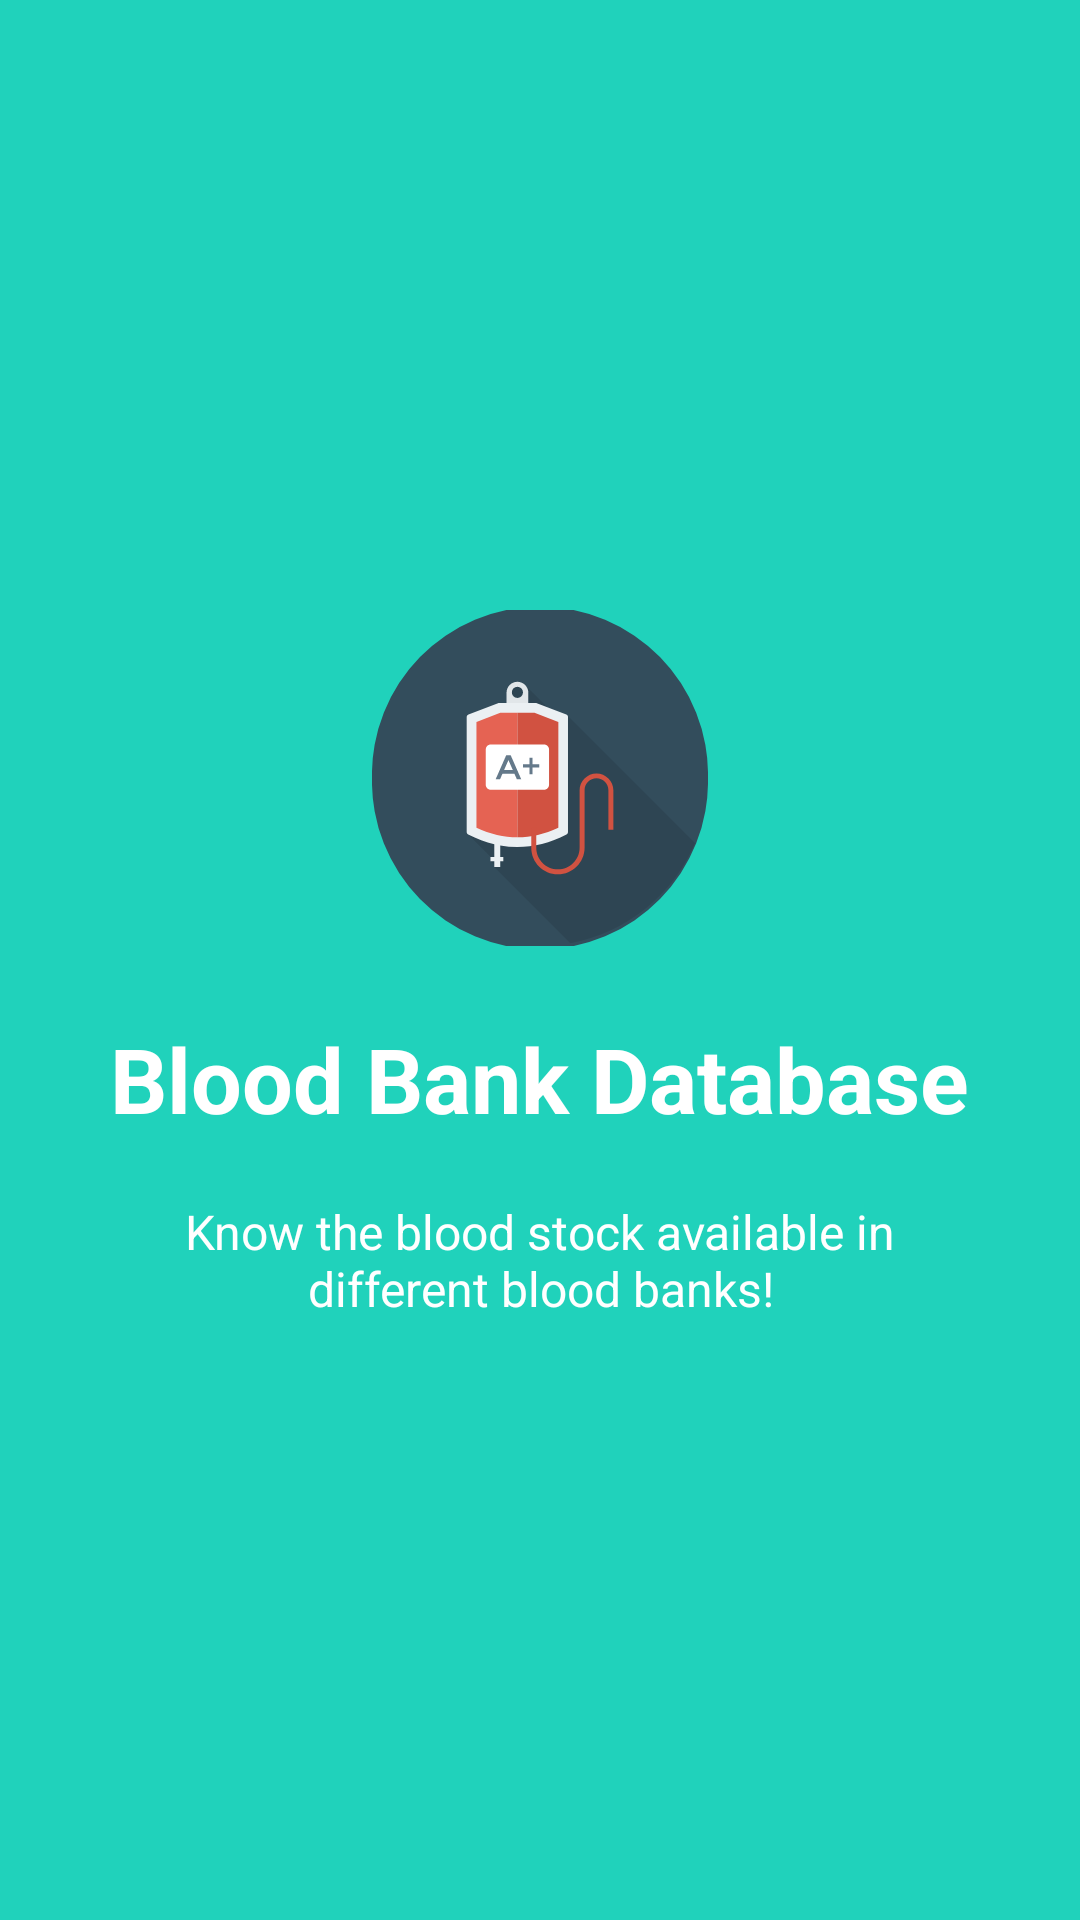

Screen size 1080w x 1920h. Icon name, then its center in pixels as (x=x, y=y):
blood transfusion: (x=540, y=778)
